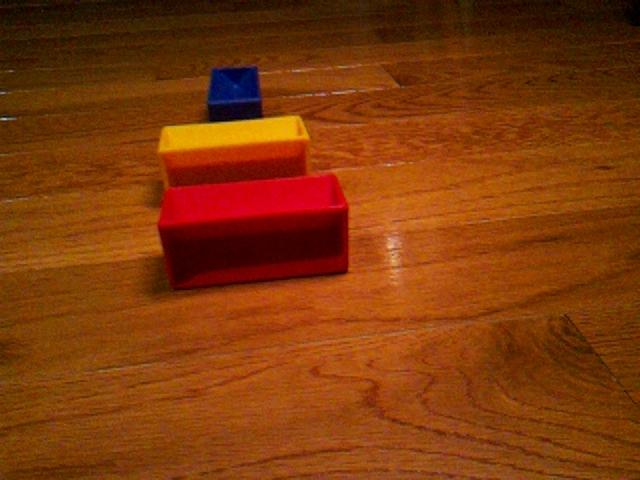blue: (206, 64, 264, 122)
red: (157, 171, 351, 291)
yellow: (157, 114, 311, 187)
